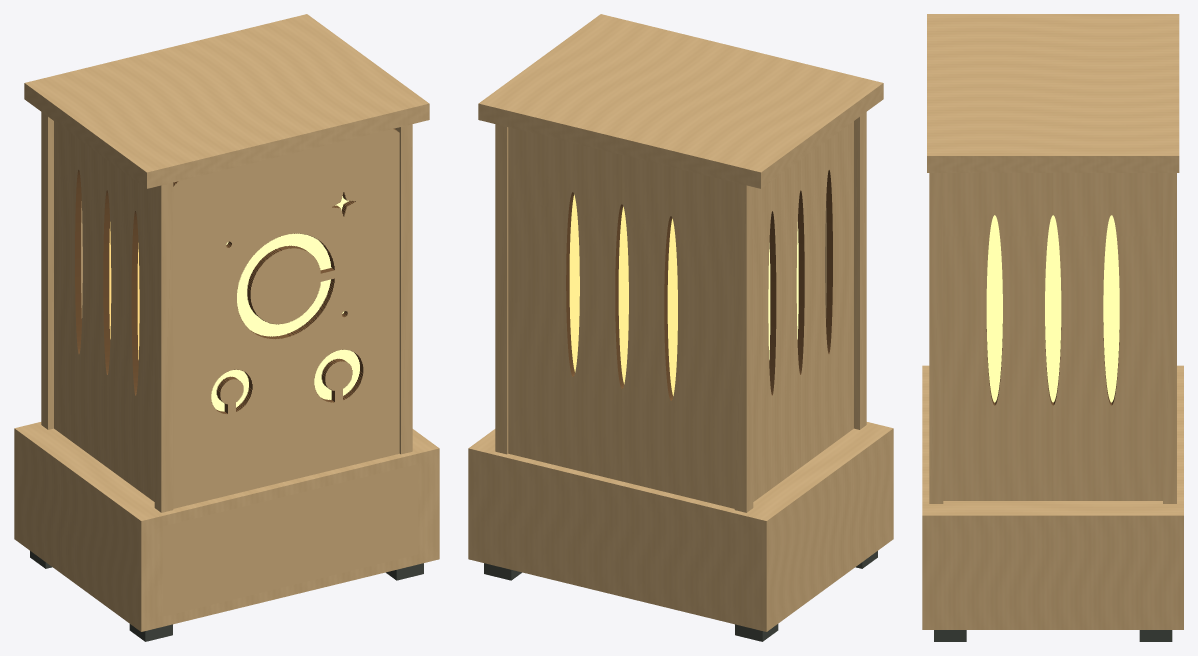
Rendered from studio-lamp-orbit.glb.
3 renders of one model, left to right at view 1: azimuth 30°, elevation 25°; view 2: azimuth 150°, elevation 25°; view 3: azimuth 270°, elevation 25°, orthographic. The views are drawn at different scales.
Visible parts, largest first — view 1: Front cut panel, Top cap, Fixed left panel, Solid birch base, Base engraving face, Corner frame (×3), Warm frosted inner light; view 2: Fixed back panel, Solid birch base, Top cap, Fixed left panel, Corner frame (×3), Warm frosted inner light; view 3: Fixed right panel, Top cap, Solid birch base, Corner frame (×2), Warm frosted inner light, Small foot (×2).
Part boxes in pixels (<box>): Front cut panel: <box>173,128,399,508</box>; Top cap: <box>24,14,429,188</box>; Fixed left panel: <box>54,121,154,501</box>; Solid birch base: <box>14,422,439,631</box>; Base engraving face: <box>163,464,418,616</box>; Corner frame (×3): <box>41,112,412,512</box>; Warm frosted inner light: <box>109,196,359,411</box>; Fixed back panel: <box>508,127,734,508</box>; Solid birch base: <box>468,422,893,631</box>; Top cap: <box>478,14,883,188</box>; Fixed left panel: <box>753,121,853,501</box>; Corner frame (×3): <box>495,112,866,512</box>; Warm frosted inner light: <box>569,194,798,395</box>; Fixed right panel: <box>943,173,1162,500</box>; Top cap: <box>927,14,1179,172</box>; Solid birch base: <box>922,365,1183,629</box>; Corner frame (×2): <box>929,173,1176,503</box>; Warm frosted inner light: <box>986,215,1119,402</box>; Small foot (×2): <box>934,630,1172,641</box>.
Size of the model in its own units: 0.152 by 0.23 by 0.1122.
7 materials, 2 textured.
